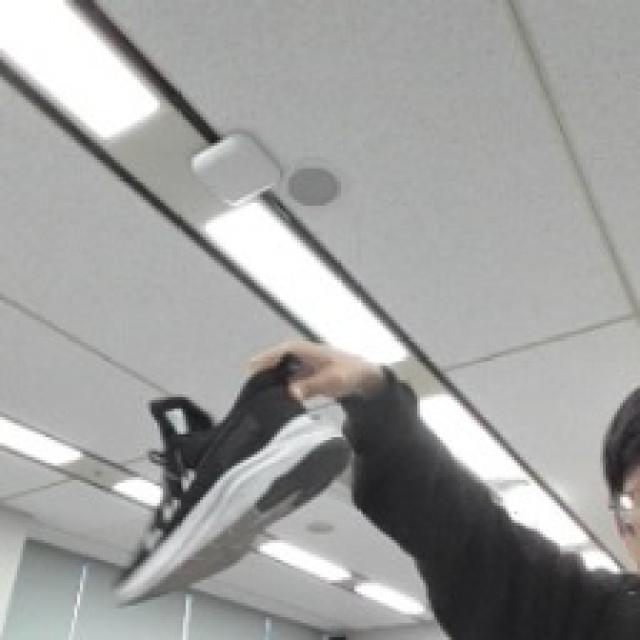shoes: (94, 294, 385, 620)
